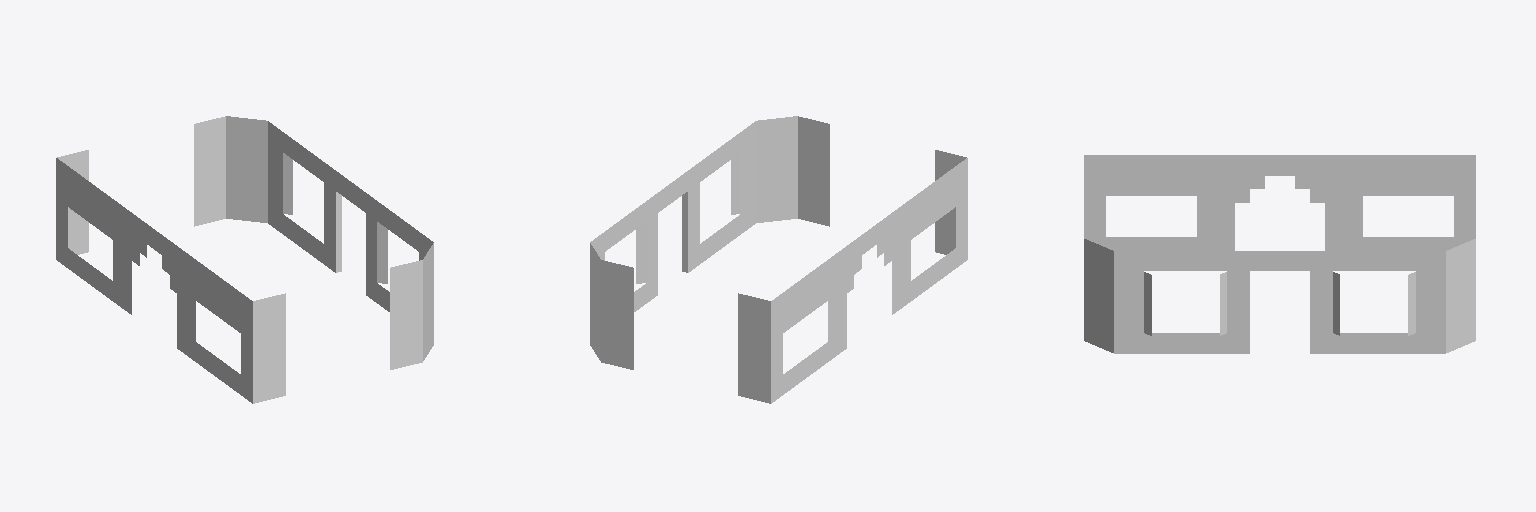
Rendered from BRKBRN02.obj.
3 views of the same model, side by side, from view 1: azimuth 30°, elevation 25°; view 2: azimuth 150°, elevation 25°; view 3: azimuth 270°, elevation 25° (orthographic).
Visible parts, largest first — view 1: BRKBRN02.1; view 2: BRKBRN02.1; view 3: BRKBRN02.1.
Boxes of the visible parts, box(x1,y1,x2,y2) form: BRKBRN02.1: box(56, 116, 433, 403); BRKBRN02.1: box(590, 116, 967, 403); BRKBRN02.1: box(1084, 155, 1475, 353).
Size of the model in its own units: 496 by 240 by 832.